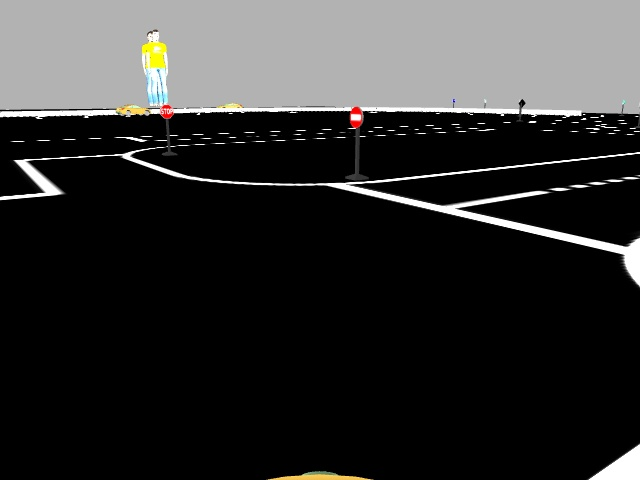NoEntry: (351, 106, 363, 128)
Stop: (158, 105, 172, 120)
